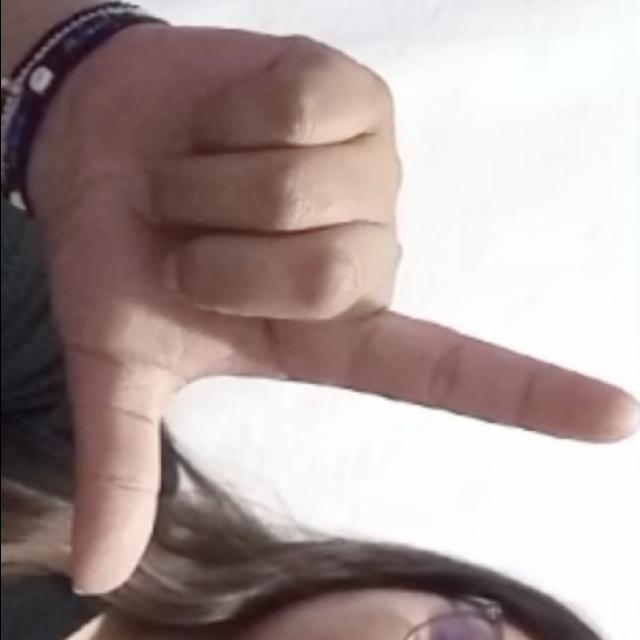LL: (25, 23, 637, 605)
